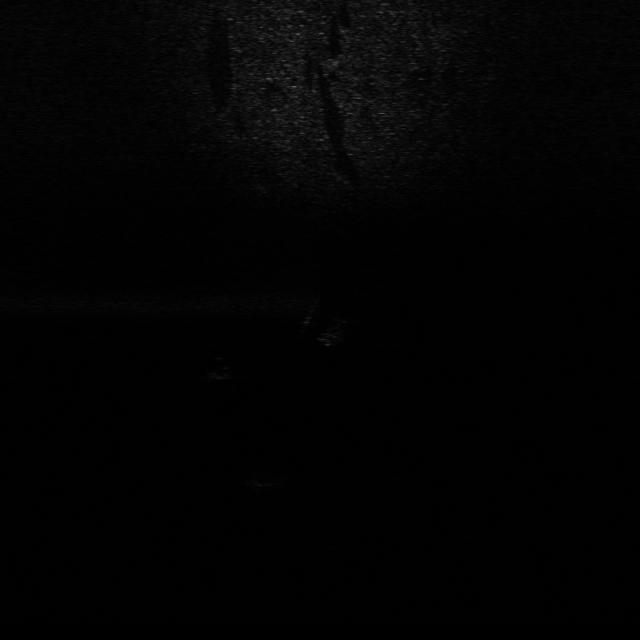ball: (203, 353, 241, 381)
circle cage: (240, 468, 298, 494)
human body: (296, 300, 356, 350)
